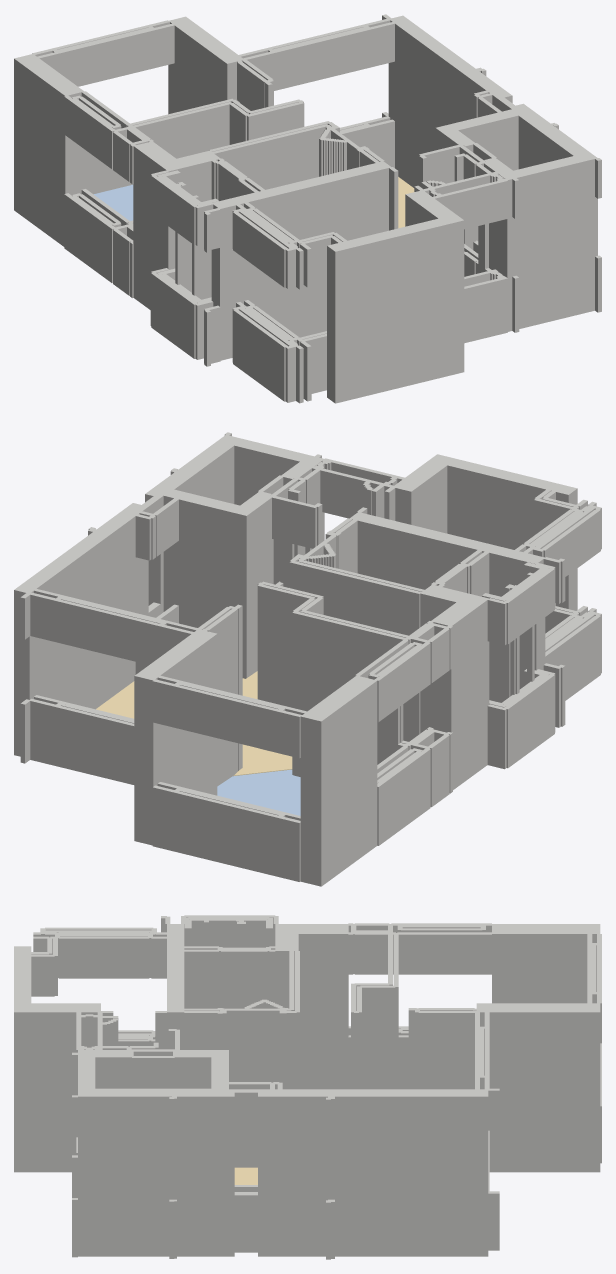
3 renders of one model, top to bottom at view 1: azimuth 30°, elevation 25°; view 2: azimuth 150°, elevation 25°; view 3: azimuth 270°, elevation 25°, orthographic. The views are drawn at different scales.
Visible parts, largest first — view 1: walls, room:bedroom:6; view 2: walls, room:bedroom:6, room:living:4; view 3: walls.
Boxes of the visible parts, bbox=[...] form: walls: bbox=[14, 14, 601, 403]; room:bedroom:6: bbox=[94, 184, 133, 220]; walls: bbox=[14, 432, 601, 886]; room:bedroom:6: bbox=[217, 769, 300, 815]; room:living:4: bbox=[96, 671, 292, 775]; walls: bbox=[14, 915, 601, 1259].
Bounding box in the file's own units: 6.93 × 2.8 × 9.33.
